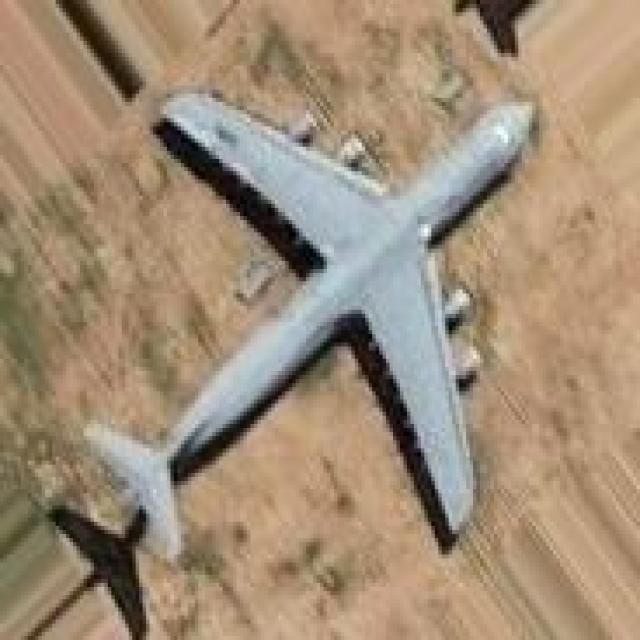C-5_TopDown: (80, 74, 536, 572)
